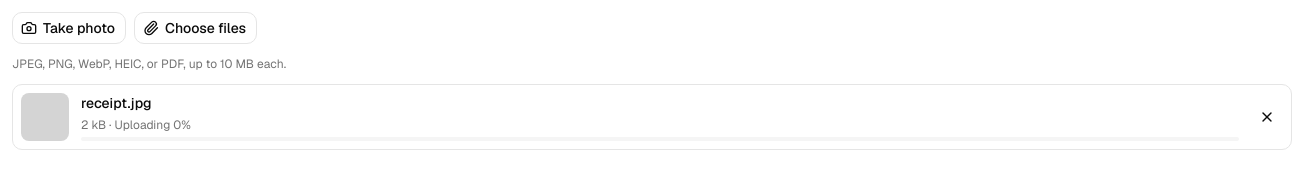
Scenario: FileUpload › cancels an upload and retries it
The image size is (1292, 172).
Earlier steps of the test are not shown.
Click the button named "Cancel uploading receipt.jpg". click: (1267, 117)
box: [1251,101,1283,133]
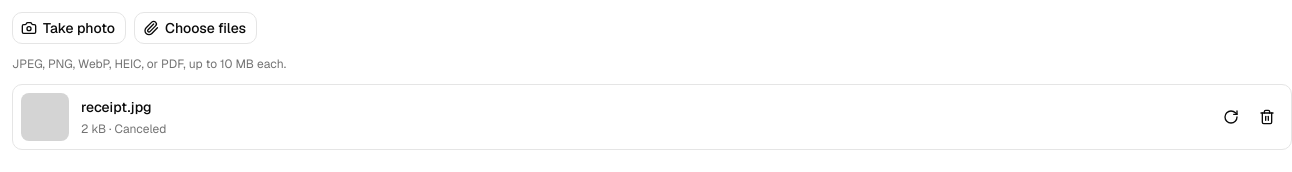
Expected: the text "2 kB · Canceled" is shown, [81,121,166,137]
Click the button named "Retry uploading receipt.jpg". click: (1231, 117)
box: [1215,101,1247,133]
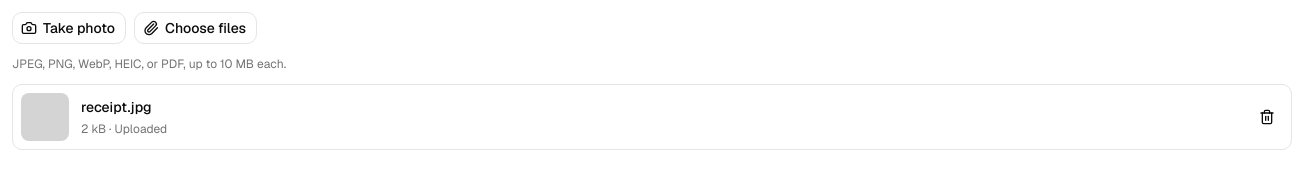
Expected: the text "2 kB · Uploaded" is shown, [81,121,167,137]
